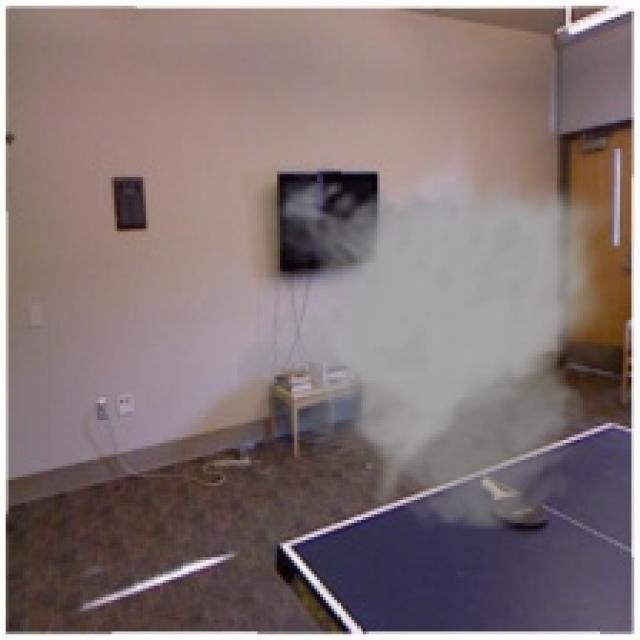smoke: (237, 169, 617, 534)
